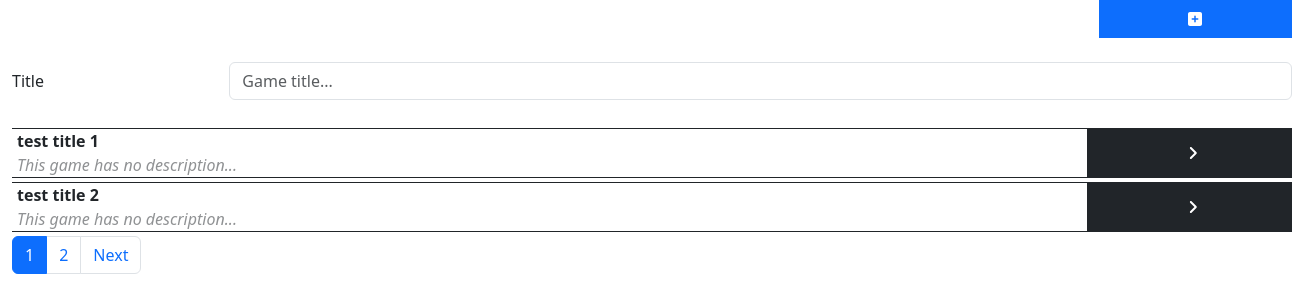
Test: Game list displayer two pages
The image size is (1304, 291).
expect the text "test title 1" is shown: met, box [17, 130, 99, 152]
expect the text "test title 2" is shown: met, box [17, 184, 99, 206]
Click the button "Next" at (111, 255), box [80, 236, 141, 274]
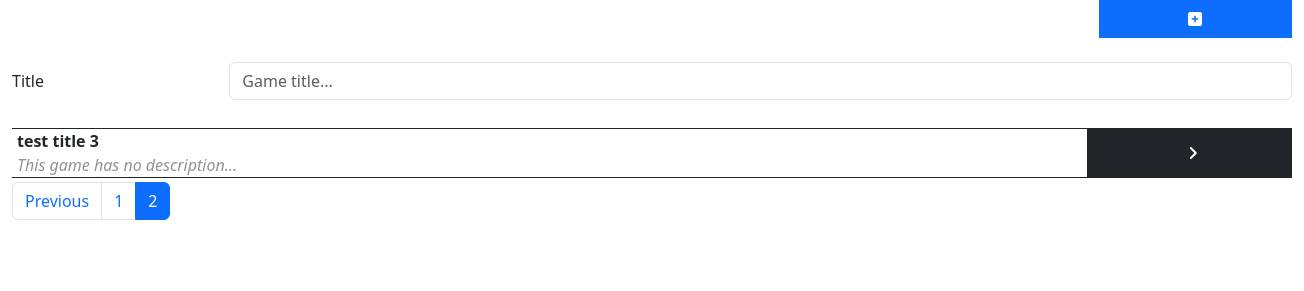
expect the text "test title 1" is gone: met
expect the text "test title 2" is gone: met
expect the text "test title 3" is shown: met, box [17, 130, 99, 152]
Click the button "Previous" at (57, 201), box [12, 182, 102, 220]
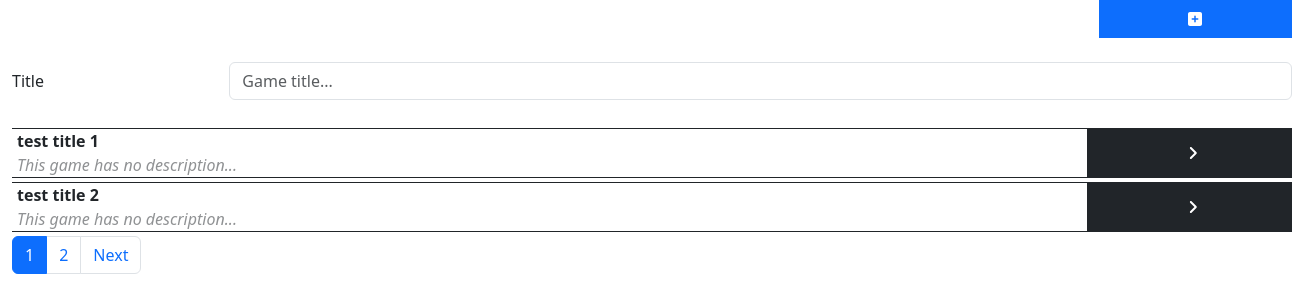
expect the text "test title 1" is shown: met, box [17, 130, 99, 152]
expect the text "test title 2" is shown: met, box [17, 184, 99, 206]
expect the text "test title 3" is gone: met
